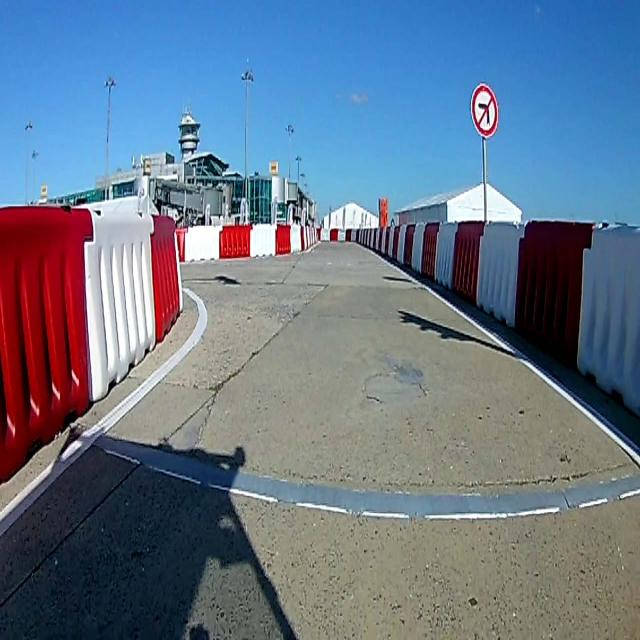soladonulmez: (469, 82, 498, 138)
